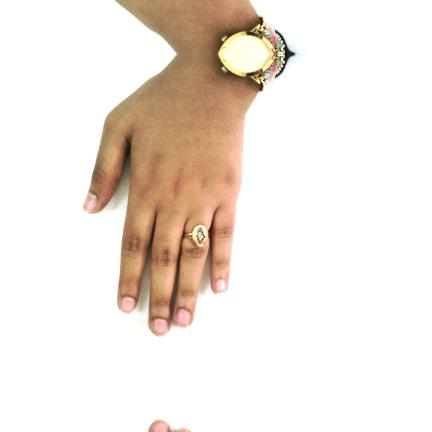Nail: (82, 191, 97, 213), (174, 309, 191, 328), (152, 319, 168, 336), (120, 297, 136, 313), (152, 420, 168, 432), (215, 279, 227, 293), (176, 428, 190, 432)
